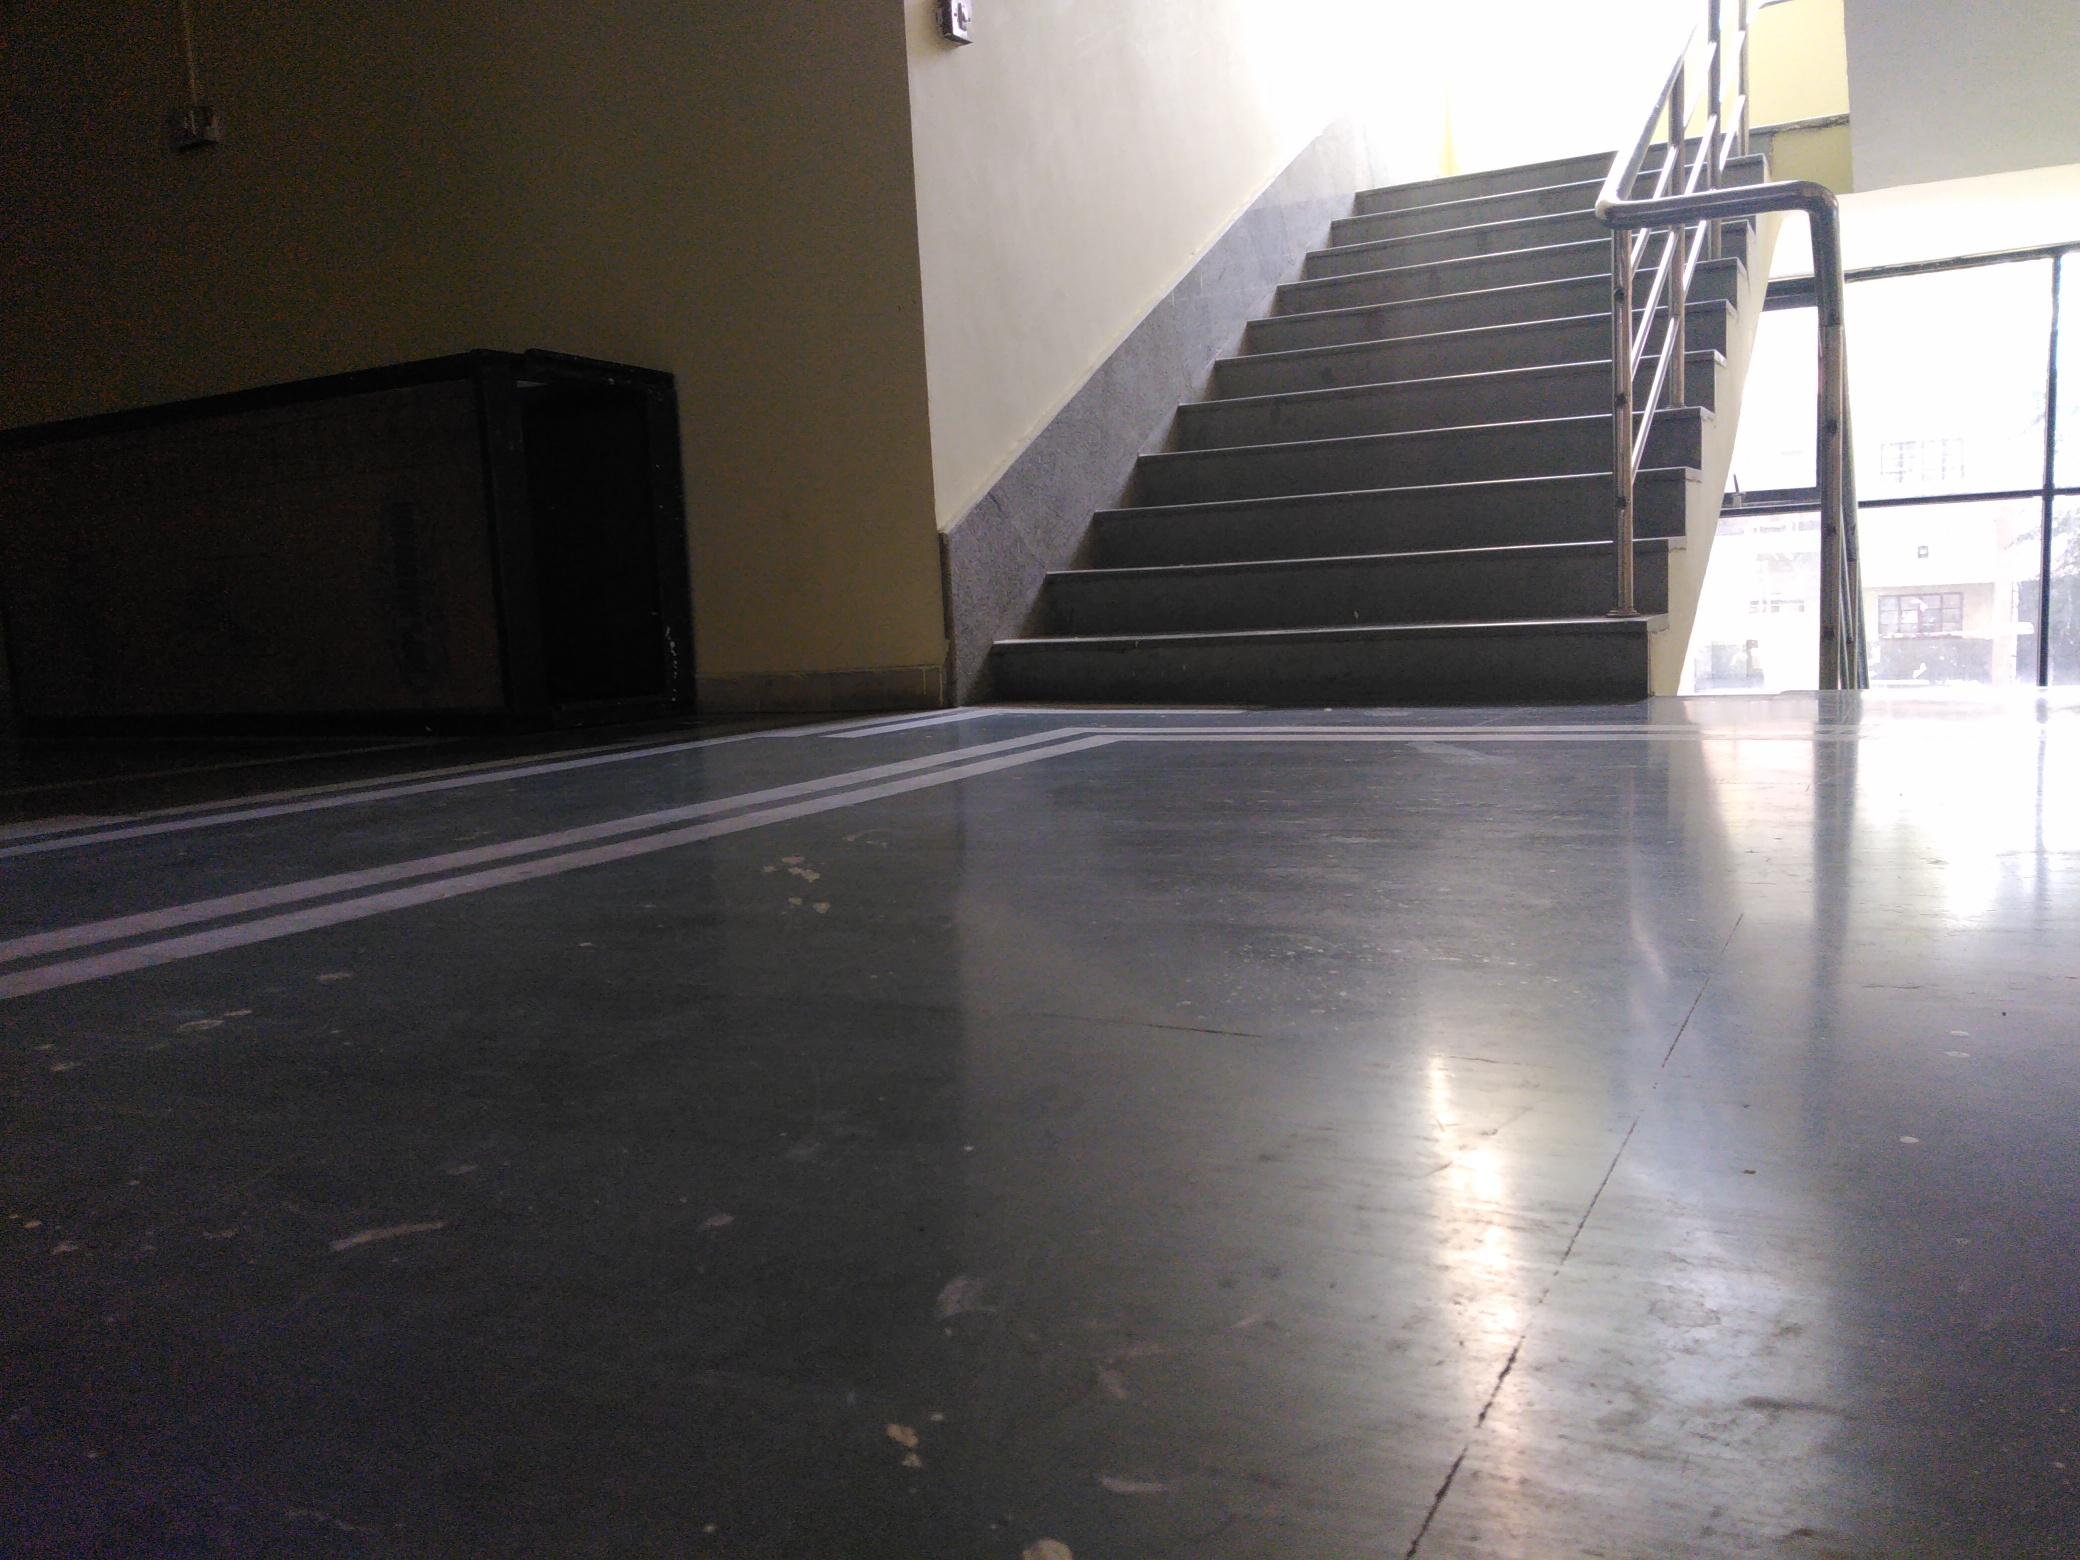stairs_up: (984, 125, 1766, 695)
